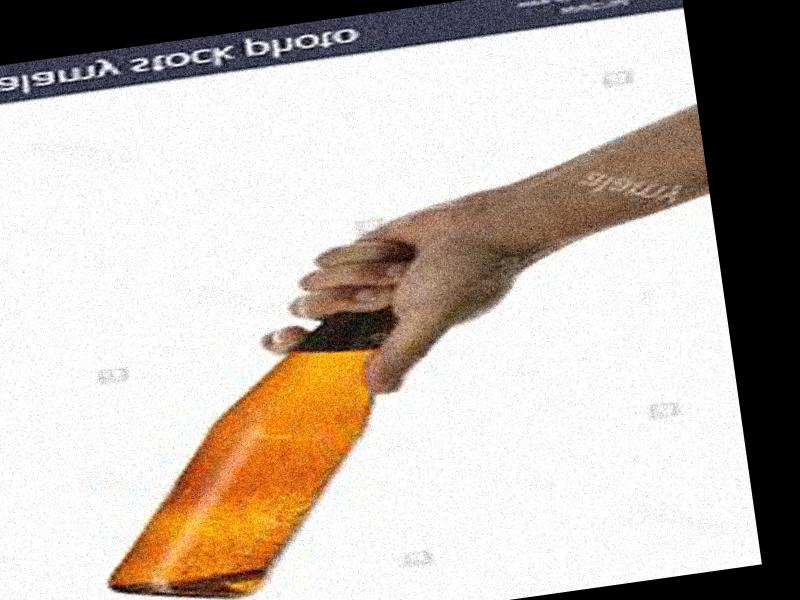Beer: (67, 245, 452, 600)
